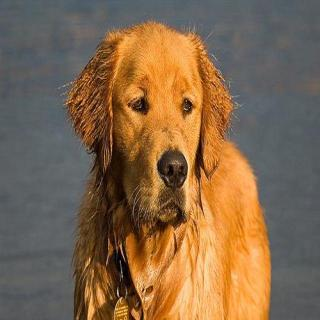dog: (65, 15, 228, 234)
nose: (153, 147, 192, 191)
